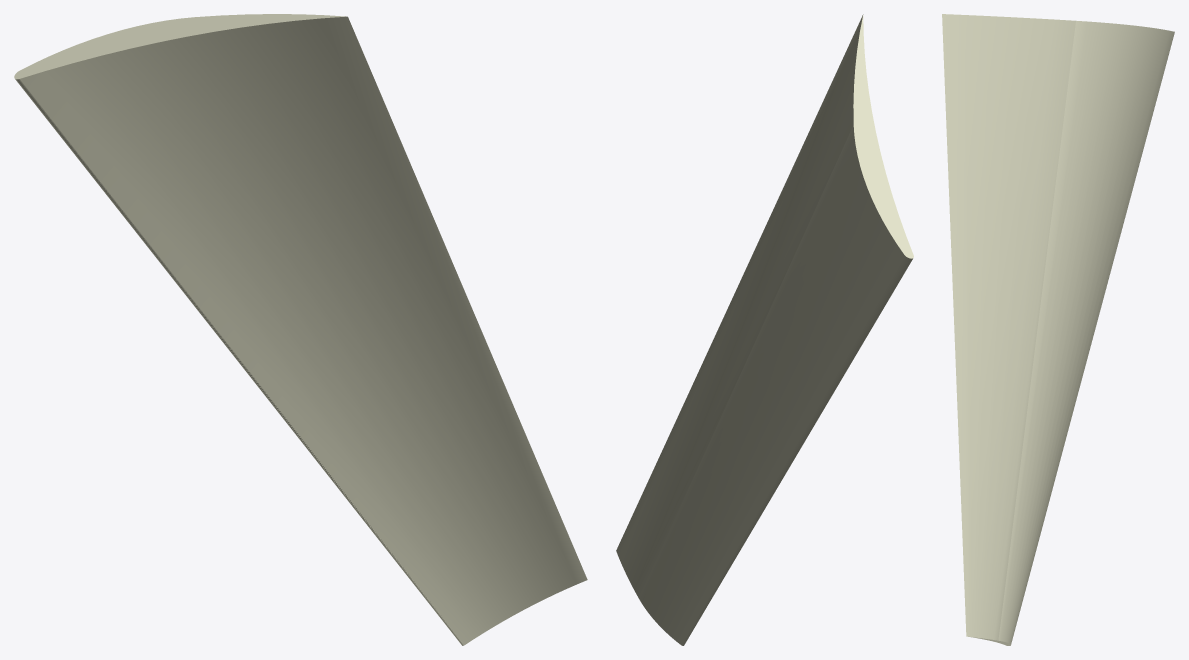
Rendered from original-18.obj.
3 views of the same model, side by side, from view 1: azimuth 30°, elevation 25°; view 2: azimuth 150°, elevation 25°; view 3: azimuth 270°, elevation 25° (orthographic). The views are drawn at different scales.
Parts seen in each view (by area): view 1: Fan_Blade18/Fan_Blade/mesh1/mesh1-geometry#mesh1-geometry; view 2: Fan_Blade18/Fan_Blade/mesh1/mesh1-geometry#mesh1-geometry; view 3: Fan_Blade18/Fan_Blade/mesh1/mesh1-geometry#mesh1-geometry.
Part boxes in pixels (left/top/right/bottom): Fan_Blade18/Fan_Blade/mesh1/mesh1-geometry#mesh1-geometry: left=14, top=14, right=587, bottom=645; Fan_Blade18/Fan_Blade/mesh1/mesh1-geometry#mesh1-geometry: left=616, top=14, right=913, bottom=645; Fan_Blade18/Fan_Blade/mesh1/mesh1-geometry#mesh1-geometry: left=942, top=14, right=1174, bottom=645.
Bounding box in the file's own units: 0.1981 × 0.2941 × 0.1089.
